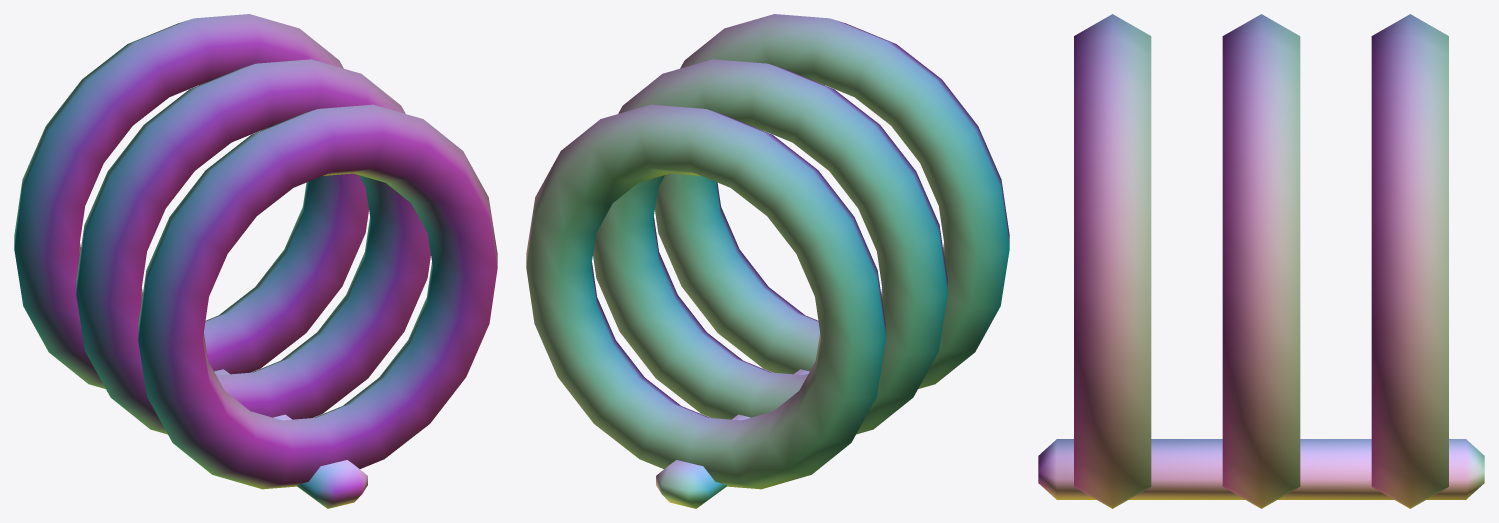
The model's file is att_coil.glb.
3 views of the same model, side by side, from view 1: azimuth 30°, elevation 25°; view 2: azimuth 150°, elevation 25°; view 3: azimuth 270°, elevation 25° (orthographic). The views are drawn at different scales.
Parts seen in each view (by area): view 1: att_coil_mesh; view 2: att_coil_mesh; view 3: att_coil_mesh.
Part boxes in pixels (bbox=[...]): att_coil_mesh: bbox=[14, 14, 497, 508]; att_coil_mesh: bbox=[526, 14, 1009, 508]; att_coil_mesh: bbox=[1038, 14, 1484, 508].
Size of the model in its own units: 0.0402 by 0.0406 by 0.036.
